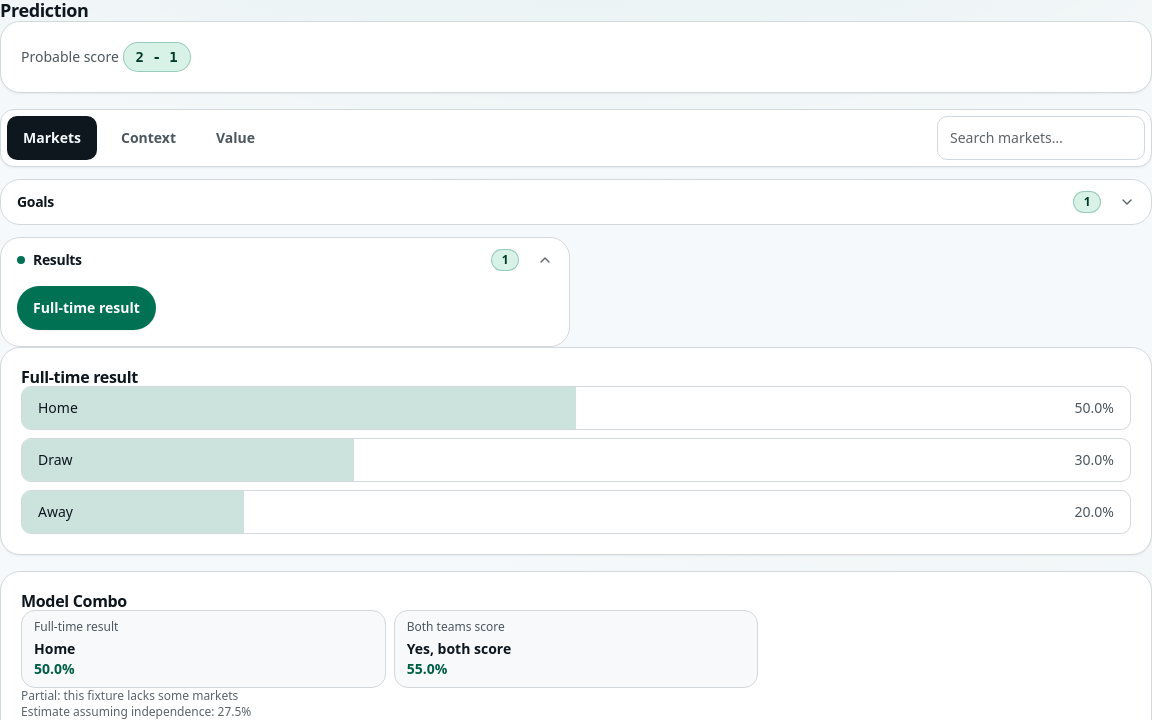
Test case: PredictionPanel match center › filters markets from the search aligned in the tab row
In the search field with placeholder "Search markets…": (1041, 138) [937,116,1145,160], type "both"
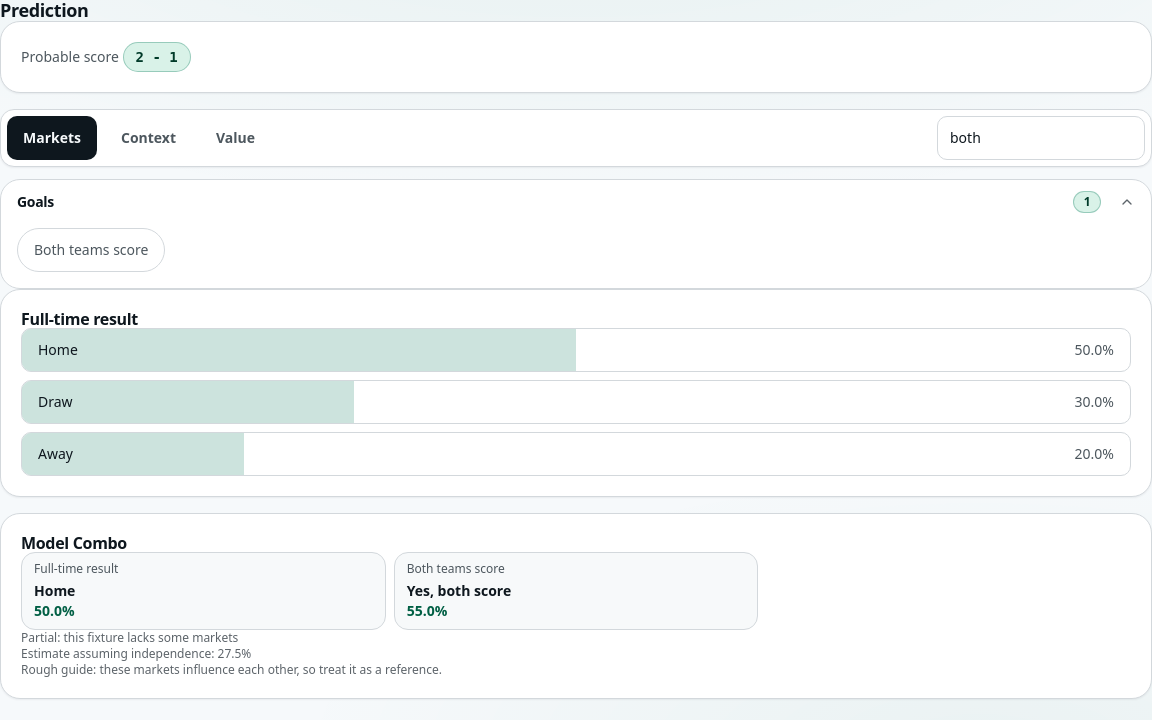
Expected: the text "Goals" is shown, [17,192,54,212]
Now the button "Both teams score" is shown, box [17,228,166,272]
Now the button "Results" is gone
